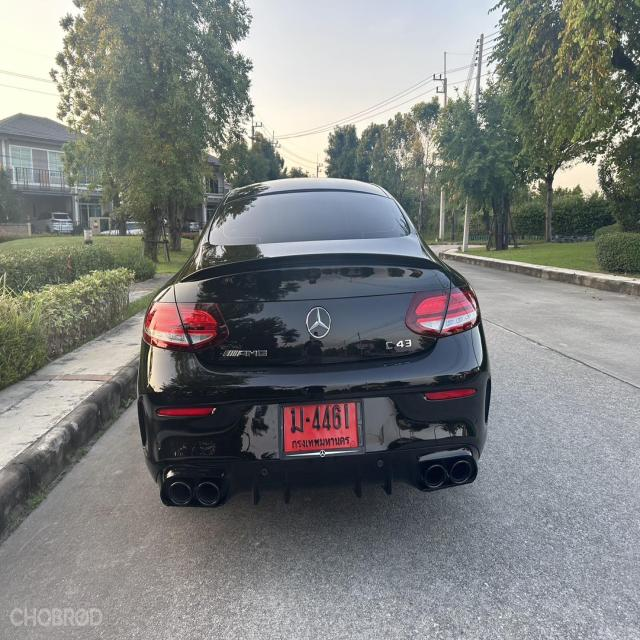license_plate: (276, 395, 367, 462)
